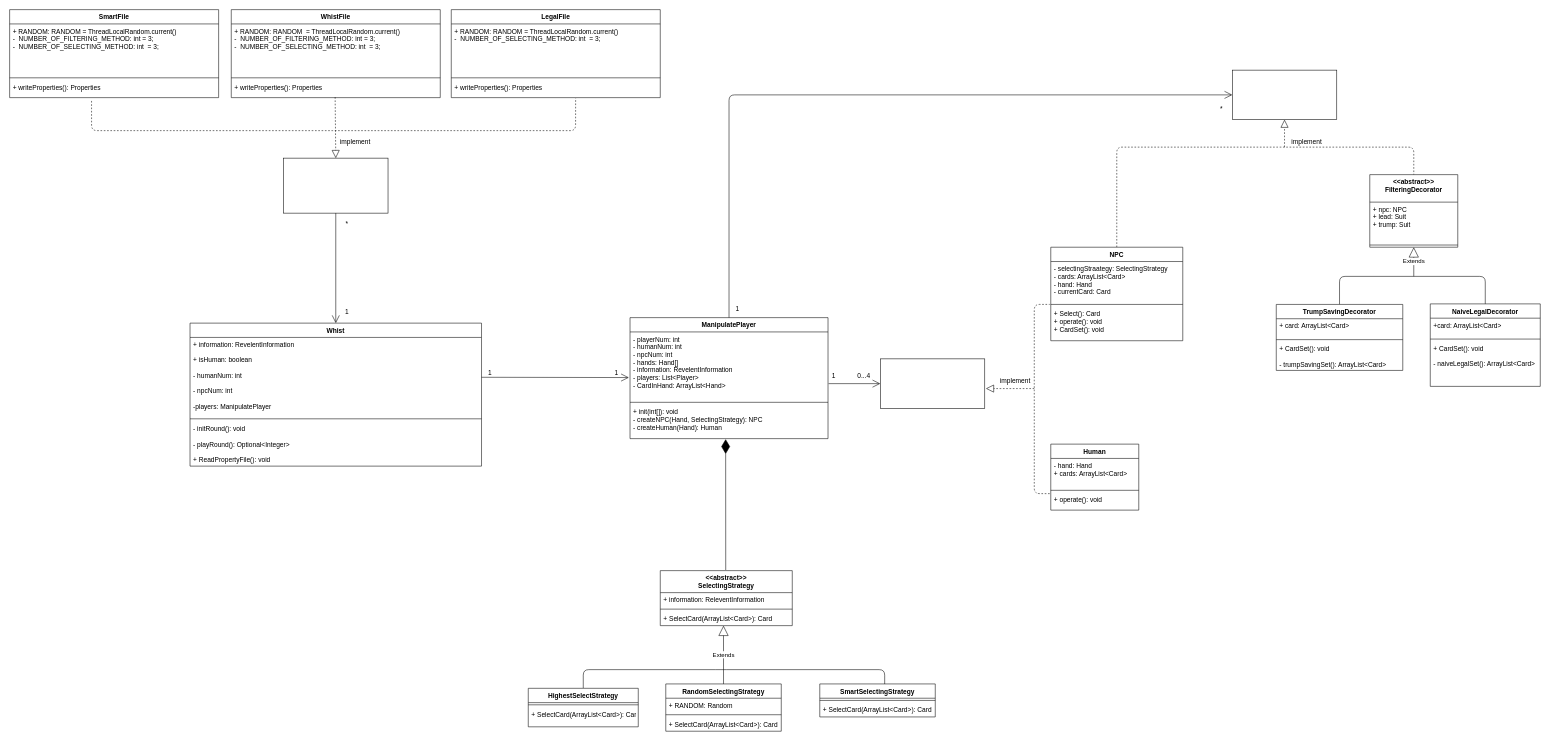
The diagram is 1550 pixels wide and 743 high, and some of its shapes have lost their labels. Here are the shapes that lost their labels. From the top down, the centre of each, then its label:
At (x=1284, y=95): "<<Interface>> FilterNPC + Cardset(): void".
At (x=335, y=185): "<<Interface>> File writeProperties(): Properties".
At (x=932, y=383): "<<Interface>> Player + operate(): void".
